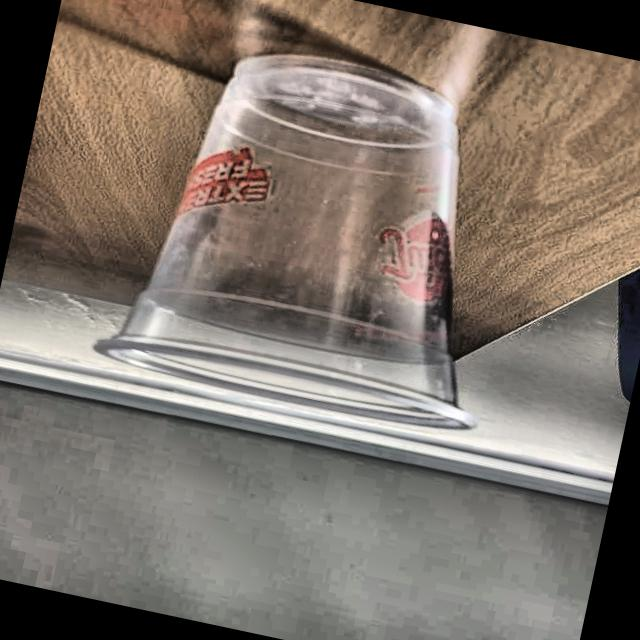plastic cup: (88, 22, 541, 443)
